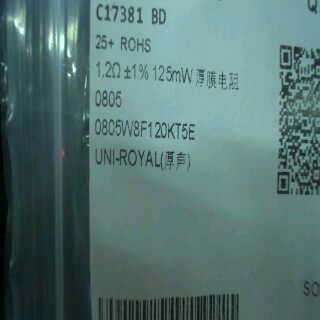1.2R: (91, 59, 122, 113)
